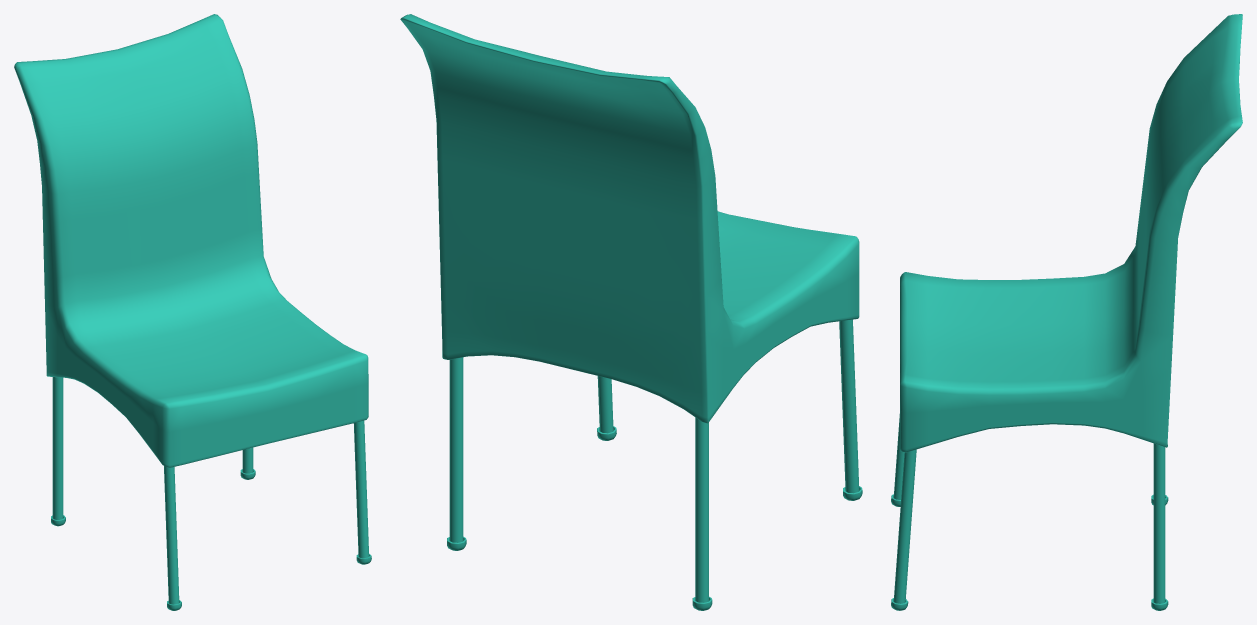
Rendered from chair_v1.FBX.
3 renders of one model, left to right at view 1: azimuth 30°, elevation 25°; view 2: azimuth 150°, elevation 25°; view 3: azimuth 270°, elevation 25°, orthographic. The views are drawn at different scales.
Parts seen in each view (by area): view 1: Plane001; view 2: Plane001; view 3: Plane001.
Boxes of the visible parts, x1=… form: Plane001: x1=14, y1=14, x2=371, y2=610; Plane001: x1=400, y1=14, x2=862, y2=610; Plane001: x1=891, y1=14, x2=1242, y2=610.
Size of the model in its own units: 19.65 by 39.83 by 25.94.
